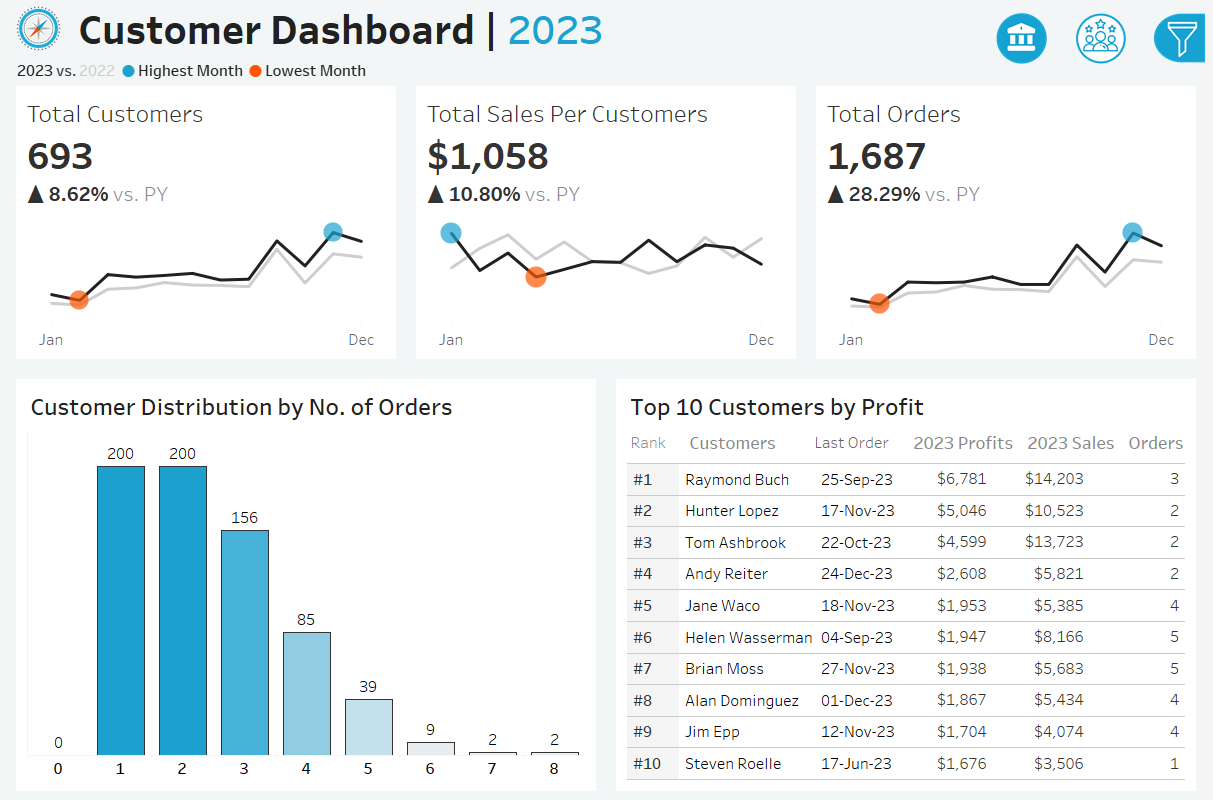

This screenshot's page, from the dashboard's own definition file:
{"tool":"tableau","page":{"name":"Customer Dashboard","canvas":[1200,800],"ordinal":0},"visuals":[{"type":"image","param":"Image/Icon - Logo.png","box":[0,0,65,54]},{"type":"text","box":[65,0,864,54]},{"type":"dashboard-object","box":[976,7,79,60]},{"type":"dashboard-object","box":[1055,7,78,60]},{"type":"blank","box":[989,10,200,83]},{"type":"worksheet","title":"Legend KPI","mark":"Automatic","box":[0,54,1200,31]},{"type":"worksheet","title":"KPI Customers","mark":"Automatic","rows":["Calculation_825566149802901523"],"cols":["Order Date"],"box":[0,85,400,283]},{"type":"worksheet","title":"KPI Sales per Customers","mark":"Automatic","rows":["Calculation_825566149802958868"],"cols":["Order Date"],"box":[400,85,400,283]},{"type":"worksheet","title":"KPI Orders","mark":"Line","rows":["Calculation_825566149899575332"],"cols":["Order Date"],"box":[800,85,400,283]},{"type":"text","box":[989,93,200,40]},{"type":"parameter","param":"[Parameters].[Parameter 1]","box":[989,133,200,56]},{"type":"blank","box":[989,189,200,60]},{"type":"text","box":[989,249,200,33]},{"type":"filter","title":"KPI Customers","param":"[federated.13cwdnl1msok7q1at9ooc1g9il87].[none:Category:nk]","box":[989,282,200,61]},{"type":"filter","title":"KPI Customers","param":"[federated.13cwdnl1msok7q1at9ooc1g9il87].[none:Sub-Category:nk]","box":[989,343,200,61]},{"type":"text","box":[17,385,566,40]},{"type":"text","box":[617,385,566,40]},{"type":"text","box":[989,404,200,33]},{"type":"worksheet","title":"Customer Distribution","mark":"Bar","rows":["Calculation_825566149801775117"],"cols":["Calculation_825566149805191189"],"box":[17,425,566,358]},{"type":"text","box":[617,425,59,33]},{"type":"text","box":[676,425,125,33]},{"type":"text","box":[801,425,99,33]},{"type":"text","box":[900,425,114,33]},{"type":"text","box":[1014,425,101,33]},{"type":"text","box":[1115,425,68,33]},{"type":"filter","title":"KPI Customers","param":"[federated.13cwdnl1msok7q1at9ooc1g9il87].[none:Region:nk]","box":[989,437,200,61]},{"type":"worksheet","title":"Top Customers","mark":"Automatic","rows":["Calculation_825566149815754780","Customer Name","Order Date"],"box":[617,458,566,325]},{"type":"filter","title":"KPI Customers","param":"[federated.13cwdnl1msok7q1at9ooc1g9il87].[none:State:nk]","box":[989,498,200,61]},{"type":"filter","title":"KPI Customers","param":"[federated.13cwdnl1msok7q1at9ooc1g9il87].[none:City:nk]","box":[989,559,200,61]}]}

Visuals, with their boxes in screenshot pixels (x1, y1, x2, y2), scaled from the page's 1200x800 canvas onto the 1213x800 screenshot:
image: rect(0, 0, 66, 54)
text: rect(66, 0, 939, 54)
dashboard-object: rect(987, 7, 1066, 67)
dashboard-object: rect(1066, 7, 1145, 67)
blank: rect(1000, 10, 1202, 93)
"Legend KPI" worksheet: rect(0, 54, 1212, 85)
"KPI Customers" worksheet: rect(0, 85, 404, 368)
"KPI Sales per Customers" worksheet: rect(404, 85, 809, 368)
"KPI Orders" worksheet (Line marks): rect(809, 85, 1212, 368)
text: rect(1000, 93, 1202, 133)
parameter: rect(1000, 133, 1202, 189)
blank: rect(1000, 189, 1202, 249)
text: rect(1000, 249, 1202, 282)
"KPI Customers" filter: rect(1000, 282, 1202, 343)
"KPI Customers" filter: rect(1000, 343, 1202, 404)
text: rect(17, 385, 589, 425)
text: rect(624, 385, 1196, 425)
text: rect(1000, 404, 1202, 437)
"Customer Distribution" worksheet (Bar marks): rect(17, 425, 589, 783)
text: rect(624, 425, 683, 458)
text: rect(683, 425, 810, 458)
text: rect(810, 425, 910, 458)
text: rect(910, 425, 1025, 458)
text: rect(1025, 425, 1127, 458)
text: rect(1127, 425, 1196, 458)
"KPI Customers" filter: rect(1000, 437, 1202, 498)
"Top Customers" worksheet: rect(624, 458, 1196, 783)
"KPI Customers" filter: rect(1000, 498, 1202, 559)
"KPI Customers" filter: rect(1000, 559, 1202, 620)
